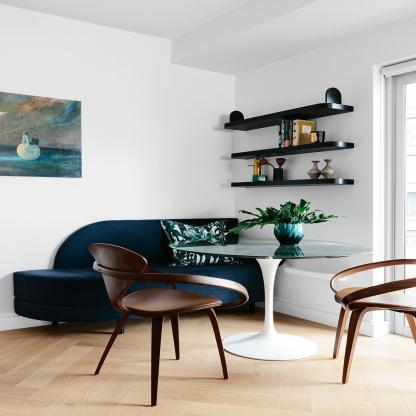chair: (84, 240, 253, 406), (329, 254, 416, 394)
door: (389, 70, 416, 334)
sofa: (12, 217, 258, 338)
table: (177, 239, 371, 368)
